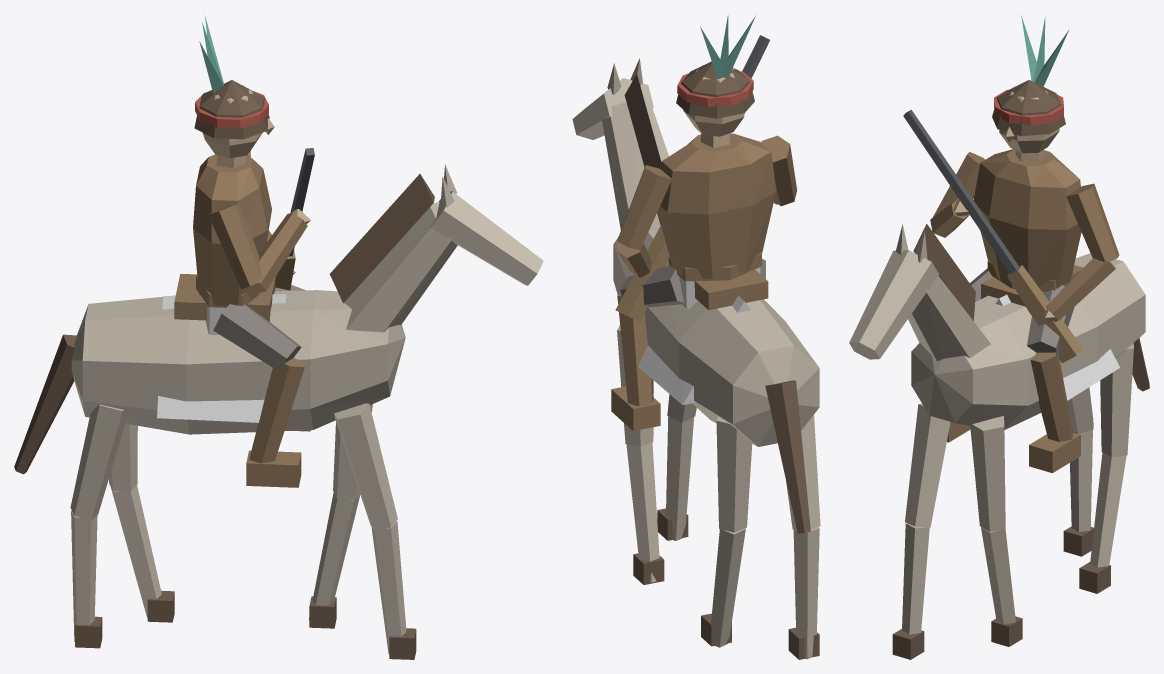
The model's file is comanche-riders.glb.
The picture shows the model from 3 angles, left to right: view 1: azimuth 30°, elevation 25°; view 2: azimuth 150°, elevation 25°; view 3: azimuth 270°, elevation 25°; orthographic projection. The views are drawn at different scales.
Parts seen in each view (by area): view 1: LOD0; view 2: LOD0; view 3: LOD0.
Boxes of the visible parts, <box> form: LOD0: <box>14,14,543,659</box>; LOD0: <box>572,15,820,659</box>; LOD0: <box>849,15,1149,659</box>.
Size of what is drawn, in the model's own units: 0.9264 by 1.42 by 0.6659.
